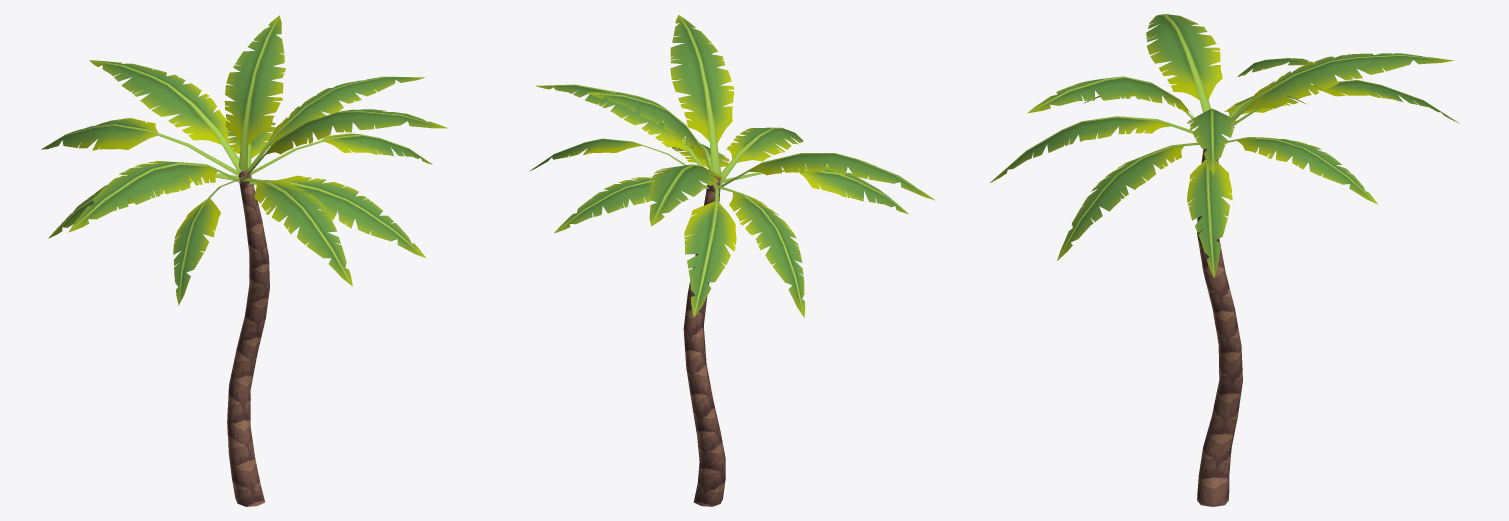
The model's file is palm_tree1.glb.
The picture shows the model from 3 angles, left to right: view 1: azimuth 30°, elevation 25°; view 2: azimuth 150°, elevation 25°; view 3: azimuth 270°, elevation 25°; orthographic projection. The views are drawn at different scales.
Visible parts, largest first — view 1: PalmTree_1; view 2: PalmTree_1; view 3: PalmTree_1.
Part boxes in pixels (bbox=[...]): PalmTree_1: bbox=[41, 15, 447, 506]; PalmTree_1: bbox=[529, 15, 935, 506]; PalmTree_1: bbox=[990, 14, 1459, 506].
Size of the model in its own units: 5.09 by 5.1 by 4.95.
Materials: 2 (2 with a texture image).
